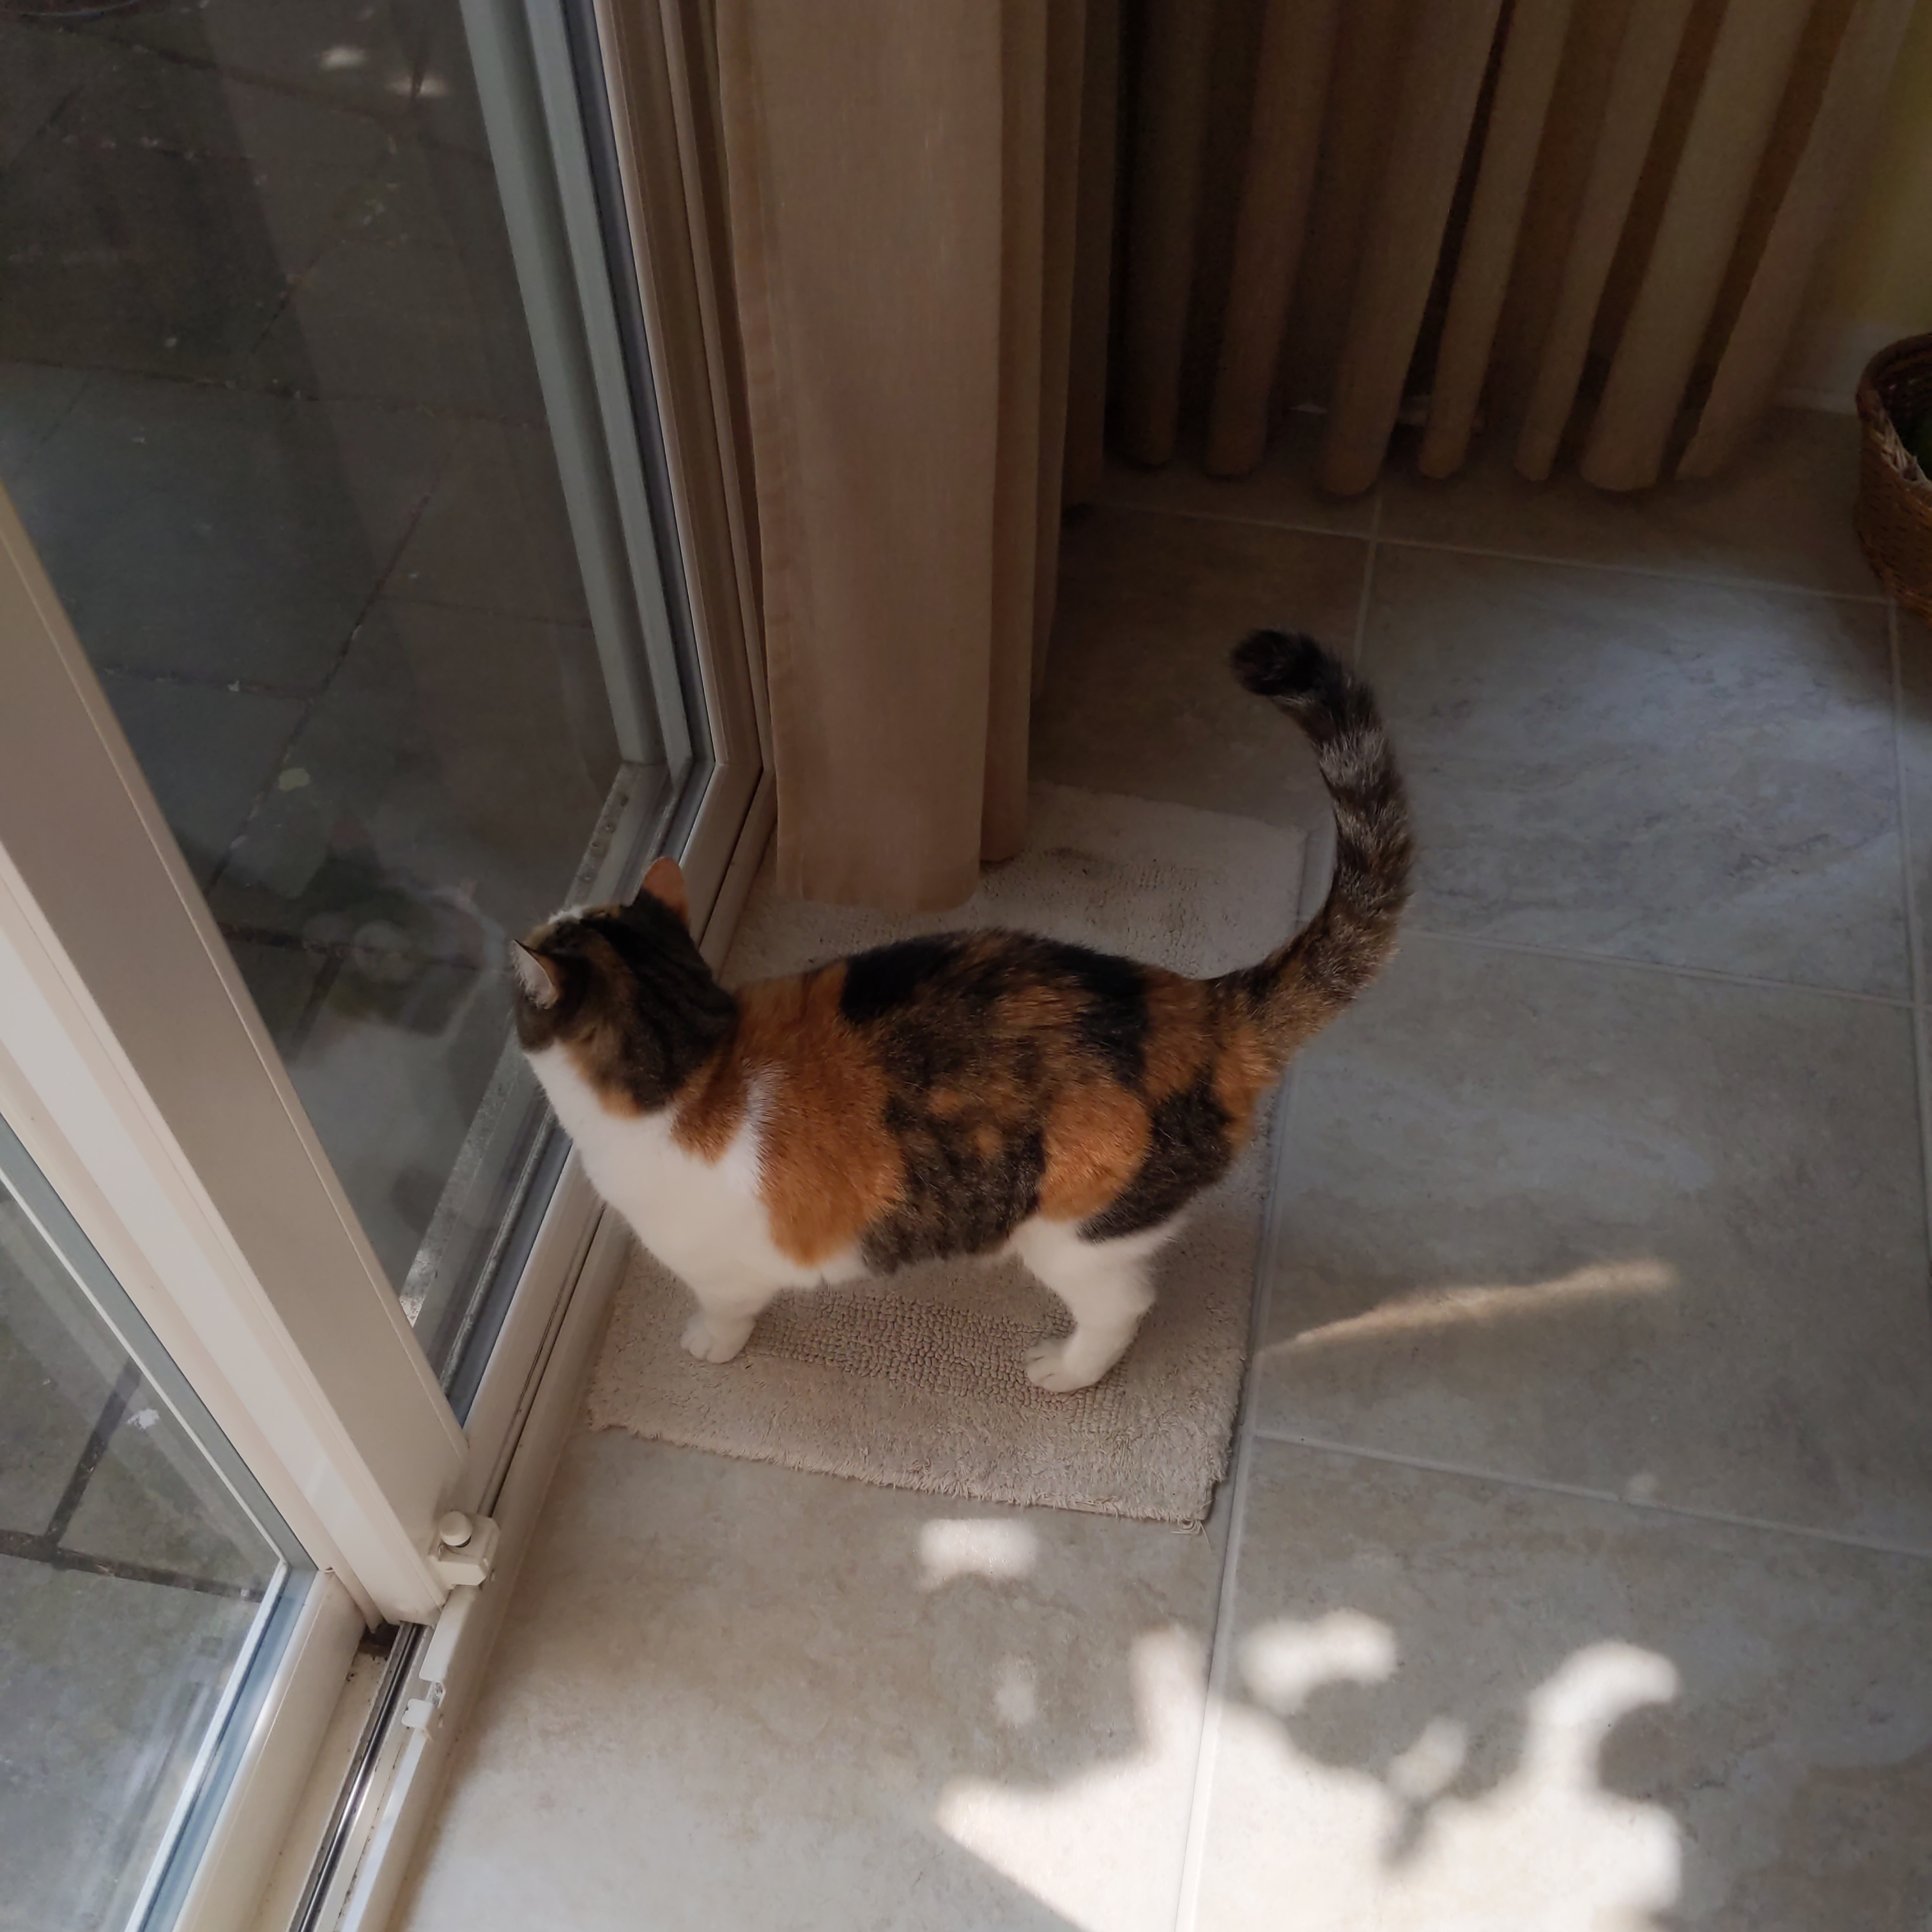Calico: (511, 630, 1415, 1394)
